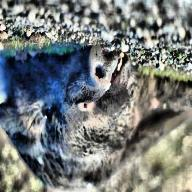boar: (1, 41, 192, 192)
